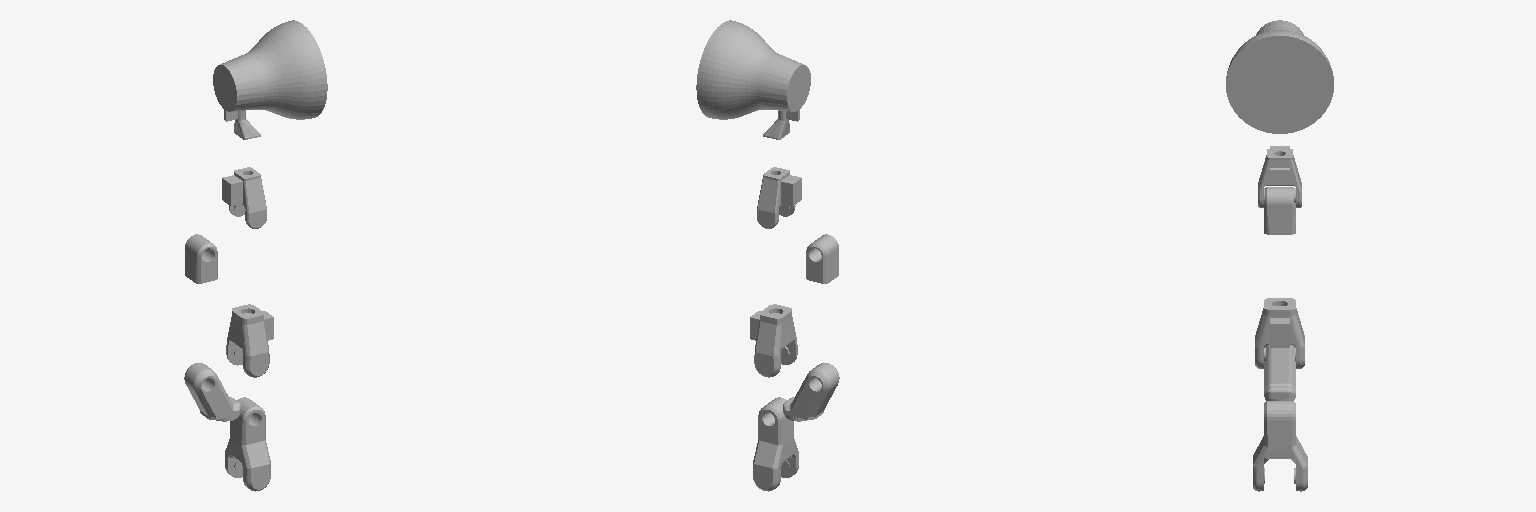
URDF robot description (arm_new):
<?xml version="1.0" encoding="utf-8"?>
<!-- This URDF was automatically created by SolidWorks to URDF Exporter! Originally created by [author] ([email redacted]) 
     Commit Version: 1.5.1-0-g916b5db  Build Version: 1.5.7152.31018
     For more information, please see http://wiki.ros.org/sw_urdf_exporter -->
<robot
  name="arm_new">
  <link
    name="base_link">
    <inertial>
      <origin
        xyz="0.010367 -4.8905E-08 0.032724"
        rpy="0 0 0" />
      <mass
        value="0.7864" />
      <inertia
        ixx="0.00089549"
        ixy="-1.7657E-09"
        ixz="6.0141E-05"
        iyy="0.0015207"
        iyz="6.3216E-10"
        izz="0.0017142" />
    </inertial>
    <visual>
      <origin
        xyz="0 0 0"
        rpy="0 0 0" />
      <geometry>
        <mesh
          filename="package://arm_new/meshes/base_link.STL" />
      </geometry>
      <material
        name="">
        <color
          rgba="0.7451 0.7451 0.7451 1" />
      </material>
    </visual>
    <collision>
      <origin
        xyz="0 0 0"
        rpy="0 0 0" />
      <geometry>
        <mesh
          filename="package://arm_new/meshes/base_link.STL" />
      </geometry>
    </collision>
  </link>
  <link
    name="Link1">
    <inertial>
      <origin
        xyz="0.016587 -4.9988E-05 -0.18666"
        rpy="0 0 0" />
      <mass
        value="0.12176" />
      <inertia
        ixx="7.3849E-05"
        ixy="-1.5322E-11"
        ixz="3.0283E-05"
        iyy="9.5654E-05"
        iyz="2.3554E-11"
        izz="5.1643E-05" />
    </inertial>
    <visual>
      <origin
        xyz="0 0 0"
        rpy="0 0 0" />
      <geometry>
        <mesh
          filename="package://arm_new/meshes/Link1.STL" />
      </geometry>
      <material
        name="">
        <color
          rgba="0.7451 0.7451 0.7451 1" />
      </material>
    </visual>
    <collision>
      <origin
        xyz="0 0 0"
        rpy="0 0 0" />
      <geometry>
        <mesh
          filename="package://arm_new/meshes/Link1.STL" />
      </geometry>
    </collision>
  </link>
  <joint
    name="Joint1"
    type="revolute">
    <origin
      xyz="0.037707 -5E-05 0.29937"
      rpy="0 0 -3.1416" />
    <parent
      link="base_link" />
    <child
      link="Link1" />
    <axis
      xyz="0 0 -1" />
    <limit
      lower="0"
      upper="6.28"
      effort="0"
      velocity="0" />
  </joint>
  <link
    name="Link2">
    <inertial>
      <origin
        xyz="-0.00054103 5.5678E-05 0.041539"
        rpy="0 0 0" />
      <mass
        value="0.16406" />
      <inertia
        ixx="0.00021226"
        ixy="-4.936E-09"
        ixz="-1.389E-06"
        iyy="0.00017369"
        iyz="3.7944E-07"
        izz="7.7824E-05" />
    </inertial>
    <visual>
      <origin
        xyz="0 0 0"
        rpy="0 0 0" />
      <geometry>
        <mesh
          filename="package://arm_new/meshes/Link2.STL" />
      </geometry>
      <material
        name="">
        <color
          rgba="0.7451 0.7451 0.7451 1" />
      </material>
    </visual>
    <collision>
      <origin
        xyz="0 0 0"
        rpy="0 0 0" />
      <geometry>
        <mesh
          filename="package://arm_new/meshes/Link2.STL" />
      </geometry>
    </collision>
  </link>
  <joint
    name="Joint2"
    type="revolute">
    <origin
      xyz="0 -5E-05 -0.1582"
      rpy="0 0 3.1416" />
    <parent
      link="Link1" />
    <child
      link="Link2" />
    <axis
      xyz="0 1 0" />
    <limit
      lower="0"
      upper="6.28"
      effort="0"
      velocity="0" />
  </joint>
  <link
    name="Link3">
    <inertial>
      <origin
        xyz="0.0029219 -6.8536E-05 0.033181"
        rpy="0 0 0" />
      <mass
        value="0.13328" />
      <inertia
        ixx="0.00010361"
        ixy="-2.6695E-08"
        ixz="-3.1074E-06"
        iyy="8.3611E-05"
        iyz="-3.0309E-07"
        izz="6.3714E-05" />
    </inertial>
    <visual>
      <origin
        xyz="0 0 0"
        rpy="0 0 0" />
      <geometry>
        <mesh
          filename="package://arm_new/meshes/Link3.STL" />
      </geometry>
      <material
        name="">
        <color
          rgba="0.7451 0.7451 0.7451 1" />
      </material>
    </visual>
    <collision>
      <origin
        xyz="0 0 0"
        rpy="0 0 0" />
      <geometry>
        <mesh
          filename="package://arm_new/meshes/Link3.STL" />
      </geometry>
    </collision>
  </link>
  <joint
    name="Joint3"
    type="revolute">
    <origin
      xyz="0 -5E-05 0.087"
      rpy="0 0 0" />
    <parent
      link="Link2" />
    <child
      link="Link3" />
    <axis
      xyz="0 1 0" />
    <limit
      lower="0"
      upper="6.28"
      effort="0"
      velocity="0" />
  </joint>
  <link
    name="Link4">
    <inertial>
      <origin
        xyz="-6.93889390390723E-18 1.60733060162403E-13 0.0230502436889771"
        rpy="0 0 0" />
      <mass
        value="0.0616446065967099" />
      <inertia
        ixx="2.35629768781271E-05"
        ixy="2.06327010680198E-10"
        ixz="4.93789336541773E-22"
        iyy="2.16264848632999E-05"
        iyz="-2.66653461902765E-16"
        izz="1.4527300665041E-05" />
    </inertial>
    <visual>
      <origin
        xyz="0 0 0"
        rpy="0 0 0" />
      <geometry>
        <mesh
          filename="package://arm_new/meshes/Link4.STL" />
      </geometry>
      <material
        name="">
        <color
          rgba="0.745098039215686 0.745098039215686 0.745098039215686 1" />
      </material>
    </visual>
    <collision>
      <origin
        xyz="0 0 0"
        rpy="0 0 0" />
      <geometry>
        <mesh
          filename="package://arm_new/meshes/Link4.STL" />
      </geometry>
    </collision>
  </link>
  <joint
    name="Joint4"
    type="revolute">
    <origin
      xyz="0 0 0.0712"
      rpy="0 0 -3.1416" />
    <parent
      link="Link3" />
    <child
      link="Link4" />
    <axis
      xyz="0 0 1" />
    <limit
      lower="0"
      upper="6.28"
      effort="0"
      velocity="0" />
  </joint>
  <link
    name="Link5">
    <inertial>
      <origin
        xyz="-0.00540369889878293 0.000111388474332554 0.0298563406822311"
        rpy="0 0 0" />
      <mass
        value="0.082003985184141" />
      <inertia
        ixx="4.25538356064228E-05"
        ixy="-4.93618679407722E-08"
        ixz="3.44134827995119E-06"
        iyy="3.79923819156701E-05"
        iyz="2.72721651106619E-07"
        izz="3.14025133057499E-05" />
    </inertial>
    <visual>
      <origin
        xyz="0 0 0"
        rpy="0 0 0" />
      <geometry>
        <mesh
          filename="package://arm_new/meshes/Link5.STL" />
      </geometry>
      <material
        name="">
        <color
          rgba="0.745098039215686 0.745098039215686 0.745098039215686 1" />
      </material>
    </visual>
    <collision>
      <origin
        xyz="0 0 0"
        rpy="0 0 0" />
      <geometry>
        <mesh
          filename="package://arm_new/meshes/Link5.STL" />
      </geometry>
    </collision>
  </link>
  <joint
    name="Joint5"
    type="revolute">
    <origin
      xyz="0 0 0.0415"
      rpy="0 0 3.1416" />
    <parent
      link="Link4" />
    <child
      link="Link5" />
    <axis
      xyz="0 1 0" />
    <limit
      lower="0"
      upper="6.28"
      effort="0"
      velocity="0" />
  </joint>
  <link
    name="EE">
    <inertial>
      <origin
        xyz="0.042146146986961 -4.95936236896049E-09 0.0778740689030945"
        rpy="0 0 0" />
      <mass
        value="1.07322722870269" />
      <inertia
        ixx="0.00185339937127512"
        ixy="-5.12364747030885E-09"
        ixz="-5.92986358897838E-05"
        iyy="0.00219441701048786"
        iyz="-3.14292637714027E-10"
        izz="0.00211751149042562" />
    </inertial>
    <visual>
      <origin
        xyz="0 0 0"
        rpy="0 0 0" />
      <geometry>
        <mesh
          filename="package://arm_new/meshes/EE.STL" />
      </geometry>
      <material
        name="">
        <color
          rgba="0.745098039215686 0.745098039215686 0.745098039215686 1" />
      </material>
    </visual>
    <collision>
      <origin
        xyz="0 0 0"
        rpy="0 0 0" />
      <geometry>
        <mesh
          filename="package://arm_new/meshes/EE.STL" />
      </geometry>
    </collision>
  </link>
  <joint
    name="Joint6"
    type="revolute">
    <origin
      xyz="0 0 0.05975"
      rpy="0 0 0" />
    <parent
      link="Link5" />
    <child
      link="EE" />
    <axis
      xyz="0 0 1" />
    <limit
      lower="0"
      upper="6.28"
      effort="0"
      velocity="0" />
  </joint>
</robot>

--- Render facts (derived) ---
The picture shows the robot from 3 angles, left to right: view 1: azimuth 30°, elevation 25°; view 2: azimuth 150°, elevation 25°; view 3: azimuth 270°, elevation 25°; orthographic projection.
Model arm_new with 7 links and 6 joints (6 revolute), rooted at base_link, posed every joint at zero.
Visible links, largest first — view 1: EE, Link2, Link3, Link5, Link1, Link4; view 2: EE, Link2, Link3, Link5, Link1, Link4; view 3: EE, Link2, Link3, Link1, Link5, Link4.
Boxes of the visible links, x1,y1,x2,y2 form: EE: (213, 20, 327, 139); Link2: (225, 397, 270, 491); Link3: (226, 304, 273, 377); Link5: (222, 167, 266, 228); Link1: (184, 363, 240, 421); Link4: (185, 234, 217, 283); EE: (696, 20, 810, 139); Link2: (753, 397, 798, 491); Link3: (750, 304, 797, 377); Link5: (757, 167, 801, 228); Link1: (783, 363, 839, 421); Link4: (806, 234, 838, 283); EE: (1226, 20, 1333, 133); Link2: (1253, 401, 1307, 491); Link3: (1255, 298, 1304, 368); Link1: (1264, 345, 1295, 400); Link5: (1258, 146, 1301, 207); Link4: (1264, 187, 1295, 234).
Bounding box of the posed robot: 0.1834 × 0.1399 × 0.6878 m (x, y, z).
Meshes: 7 distinct files referenced, 6 mesh visuals loaded (6 binary STL); not drawn: 1 (reference not matched to a file when rendering).